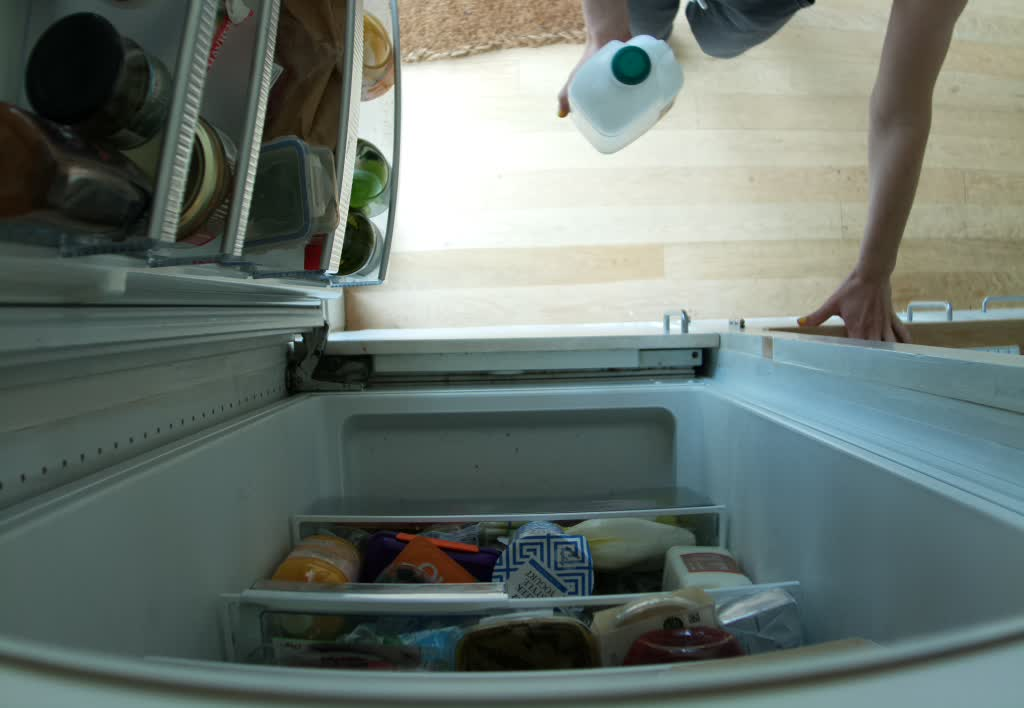milk: (563, 29, 689, 159)
